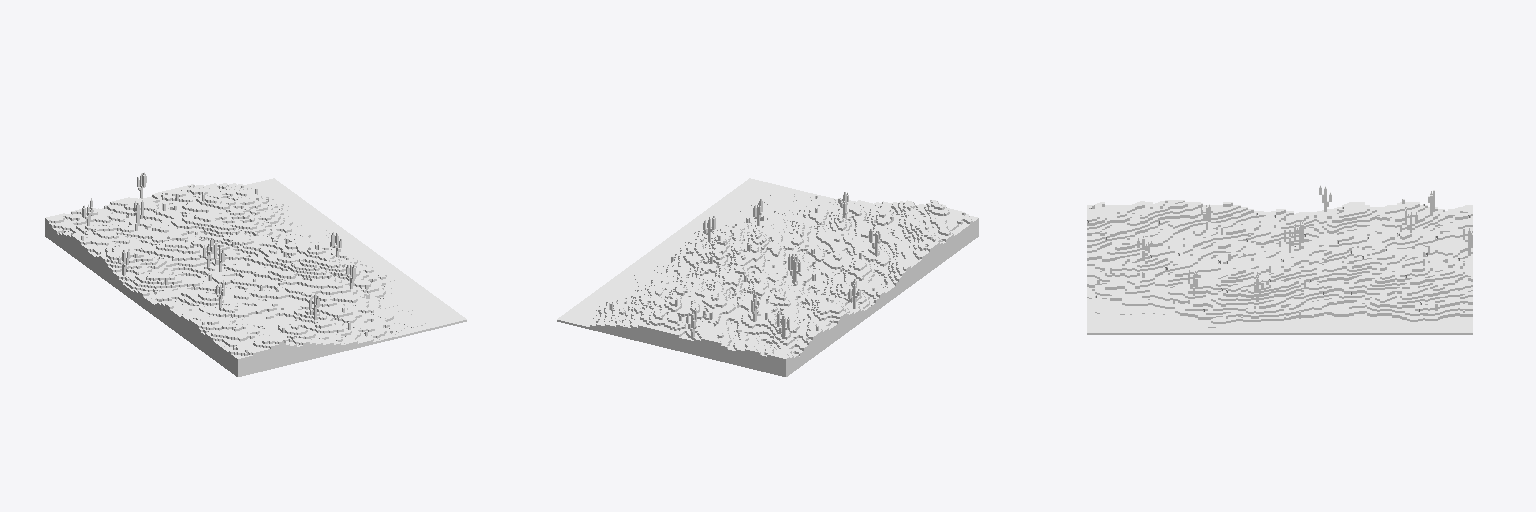
File: Sand.obj
3 renders of one model, left to right at view 1: azimuth 30°, elevation 25°; view 2: azimuth 150°, elevation 25°; view 3: azimuth 270°, elevation 25°, orthographic.
Visible parts, largest first — view 1: discord__-73_62_-224_to_31_87_-72; view 2: discord__-73_62_-224_to_31_87_-72; view 3: discord__-73_62_-224_to_31_87_-72.
Part boxes in pixels (x1,y1,x2,y2): discord__-73_62_-224_to_31_87_-72: (45,172,466,376); discord__-73_62_-224_to_31_87_-72: (557,178,978,376); discord__-73_62_-224_to_31_87_-72: (1087,185,1472,334).
Bounding box in the file's own units: 105 × 20 × 153.